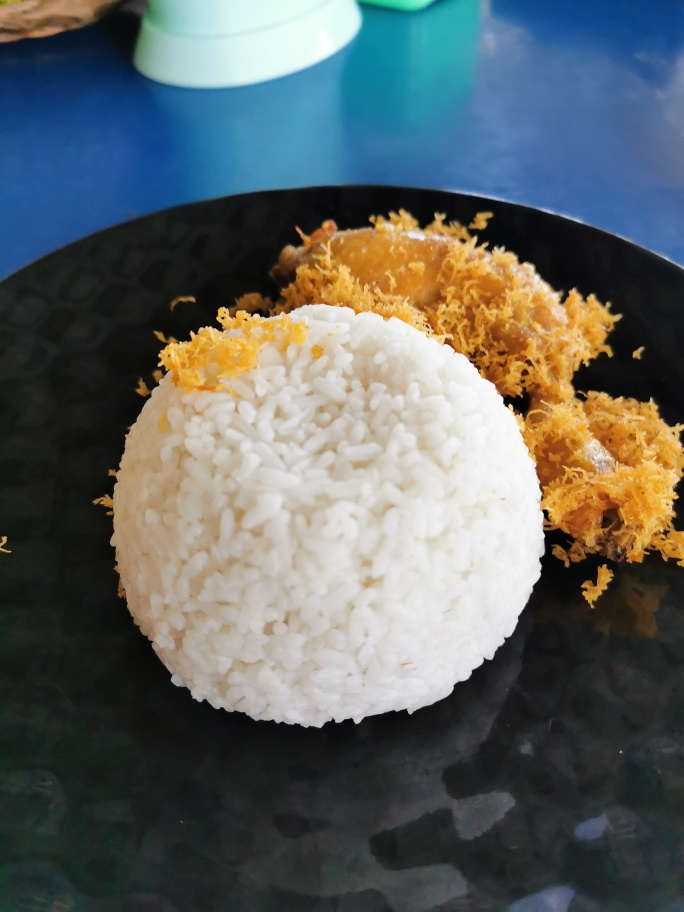ayam goreng: (266, 184, 676, 582)
nasi putih: (75, 302, 552, 741)
